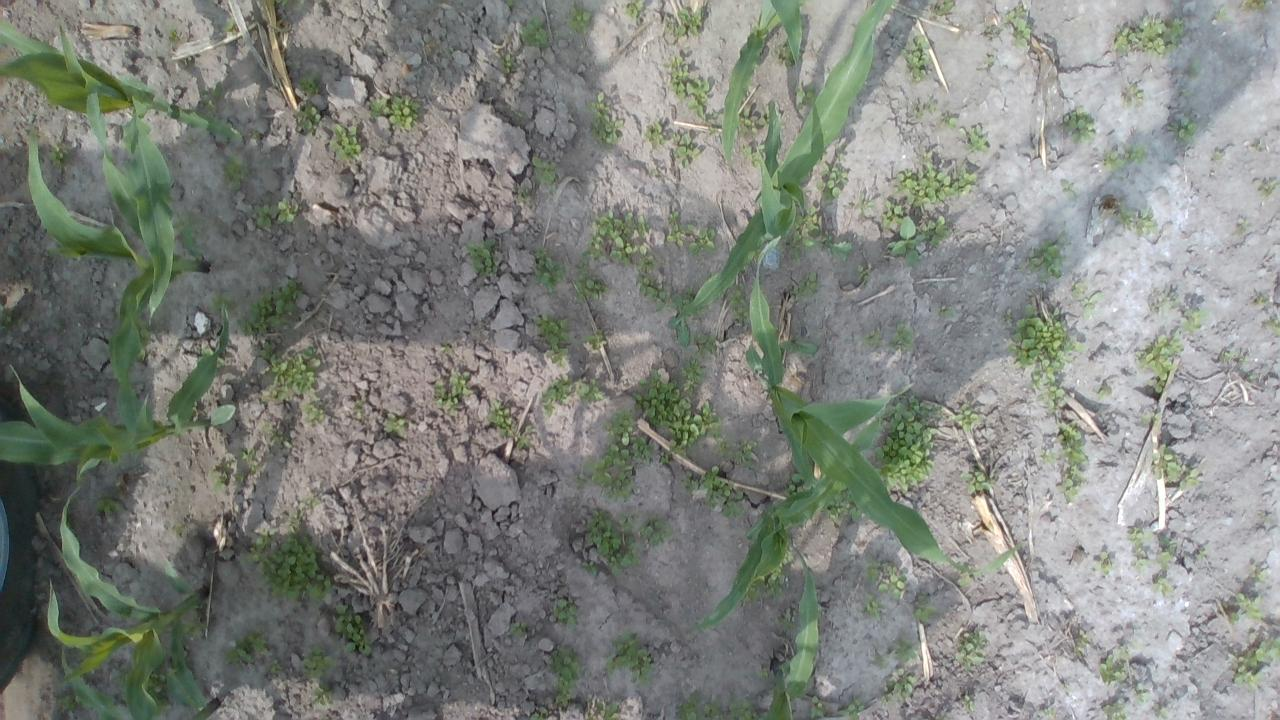Maize: (746, 233, 1022, 577), (22, 27, 212, 440), (679, 0, 902, 318), (46, 459, 210, 720), (695, 414, 883, 625), (0, 17, 246, 142), (719, 0, 803, 166), (60, 633, 220, 720), (765, 522, 821, 720)
Weeds: (634, 367, 723, 464), (248, 512, 336, 602), (573, 406, 653, 498), (871, 393, 938, 497), (1002, 302, 1086, 369), (891, 152, 977, 206), (882, 200, 948, 266), (582, 211, 654, 271), (579, 509, 639, 576), (681, 464, 748, 522), (236, 279, 302, 335), (261, 340, 322, 400), (1134, 330, 1184, 392), (1114, 16, 1184, 57), (666, 55, 709, 120), (606, 629, 654, 685), (542, 376, 606, 418), (1055, 421, 1089, 500), (676, 688, 758, 720), (666, 210, 719, 258), (1232, 635, 1280, 686), (332, 602, 374, 658), (667, 288, 707, 346), (546, 646, 584, 706), (1152, 444, 1200, 490), (585, 91, 624, 147), (813, 139, 848, 201), (864, 551, 908, 600), (803, 223, 855, 264), (536, 312, 573, 369), (433, 368, 475, 414), (532, 245, 573, 292), (226, 628, 268, 670), (1029, 238, 1067, 283), (880, 668, 918, 708), (636, 274, 674, 314), (572, 261, 608, 303), (1032, 368, 1066, 412), (746, 564, 787, 600), (954, 629, 989, 670), (900, 36, 931, 82), (827, 482, 864, 520), (384, 95, 424, 130), (1116, 205, 1158, 236), (1061, 106, 1097, 142), (254, 198, 300, 226), (718, 437, 758, 468), (302, 644, 336, 680), (1072, 280, 1102, 320), (468, 236, 498, 276), (330, 124, 362, 160), (1099, 646, 1130, 683), (1006, 4, 1032, 48), (671, 131, 700, 169), (530, 154, 558, 193), (1230, 592, 1264, 624), (665, 8, 701, 38), (520, 16, 550, 50), (737, 108, 771, 138), (488, 398, 514, 437), (952, 402, 982, 435), (688, 332, 717, 366), (220, 150, 246, 187), (960, 469, 994, 496), (790, 271, 818, 303), (960, 124, 990, 153), (640, 519, 674, 544), (54, 677, 78, 712), (727, 284, 750, 320), (911, 593, 938, 622), (94, 488, 125, 513), (890, 320, 914, 352), (170, 209, 198, 236), (1156, 536, 1178, 570), (553, 598, 579, 626), (112, 663, 131, 701), (780, 234, 804, 264), (1180, 308, 1210, 332), (565, 6, 592, 32), (200, 84, 227, 110), (783, 474, 812, 498), (146, 666, 169, 696), (894, 639, 920, 664), (298, 103, 322, 130), (794, 85, 816, 114), (1128, 526, 1154, 550), (580, 328, 610, 348), (796, 206, 819, 232), (1177, 118, 1199, 145), (840, 698, 866, 720), (298, 70, 320, 96), (774, 42, 795, 69), (47, 140, 67, 168), (863, 590, 883, 618), (207, 294, 235, 314), (311, 682, 334, 706), (384, 412, 406, 437), (1103, 150, 1127, 172), (1094, 551, 1114, 577), (808, 694, 828, 720), (1154, 292, 1180, 312), (1121, 84, 1144, 106), (743, 143, 764, 166), (643, 120, 663, 144), (517, 426, 538, 448), (204, 348, 227, 368), (183, 622, 207, 641), (1103, 702, 1128, 720), (597, 702, 622, 720), (856, 192, 876, 214), (914, 100, 936, 120), (0, 304, 14, 334), (269, 428, 291, 447), (780, 537, 795, 564), (1259, 179, 1280, 198), (1154, 577, 1173, 597), (936, 304, 956, 322), (1126, 145, 1146, 163), (1075, 630, 1090, 654), (622, 0, 644, 16), (932, 0, 954, 16), (302, 401, 322, 418), (863, 329, 881, 347), (960, 564, 974, 586), (779, 615, 798, 631), (351, 398, 366, 418), (1140, 411, 1161, 425), (1188, 58, 1200, 82), (1134, 556, 1152, 572), (1250, 566, 1266, 584), (1092, 384, 1111, 399), (1062, 180, 1076, 200), (136, 320, 152, 337), (368, 98, 384, 115), (758, 663, 773, 681), (528, 709, 552, 720), (706, 110, 722, 126), (941, 112, 956, 129), (1135, 687, 1150, 704), (268, 657, 283, 674), (209, 478, 227, 492), (237, 446, 255, 460), (500, 54, 512, 74), (1256, 510, 1273, 524), (856, 266, 870, 283), (1267, 318, 1280, 336), (1236, 218, 1250, 234), (984, 25, 1001, 38), (962, 694, 974, 712), (168, 28, 178, 48), (1244, 0, 1264, 10), (1040, 706, 1056, 718), (874, 654, 890, 666), (512, 622, 528, 634), (1255, 295, 1270, 306), (270, 0, 290, 8), (1039, 450, 1053, 461), (304, 496, 318, 507), (1222, 351, 1237, 361), (518, 188, 530, 200), (1238, 356, 1250, 368), (1216, 7, 1227, 20), (440, 46, 454, 56), (1197, 548, 1209, 559), (984, 53, 994, 66), (756, 711, 770, 720), (1159, 708, 1170, 719), (1214, 150, 1224, 162), (183, 56, 194, 66), (1247, 371, 1257, 382), (438, 344, 449, 354), (174, 526, 186, 535), (223, 22, 235, 31), (296, 0, 308, 9), (504, 0, 516, 7), (163, 398, 170, 410), (192, 401, 198, 413)
